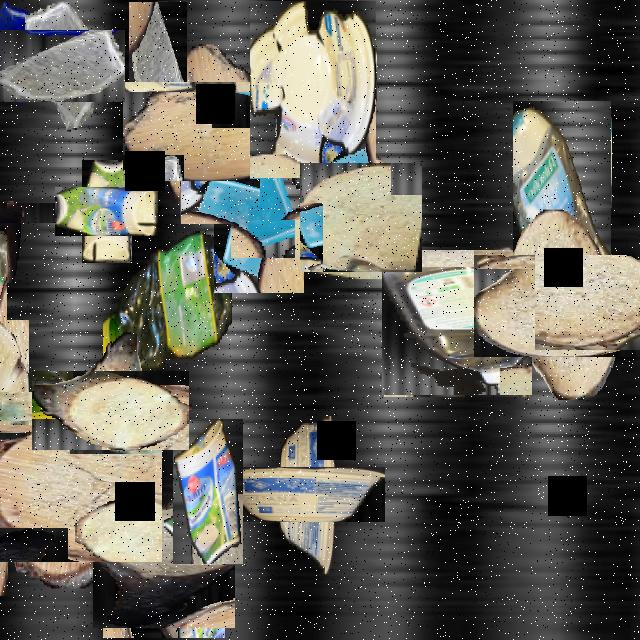glass: (196, 151, 322, 276), (260, 54, 354, 220), (11, 16, 111, 116), (129, 2, 187, 105), (0, 1, 41, 116)
plastic: (513, 102, 611, 340), (250, 2, 376, 180), (383, 248, 531, 396), (103, 224, 231, 388), (0, 310, 99, 503), (254, 441, 360, 547), (173, 420, 243, 566), (69, 173, 145, 250)
wood: (0, 412, 149, 575), (494, 233, 640, 379), (142, 63, 278, 200), (98, 501, 230, 633), (52, 351, 170, 470), (303, 159, 419, 275), (0, 356, 65, 457), (0, 174, 48, 252)
